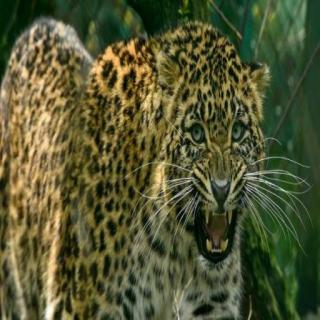Leopard: (0, 0, 265, 318)
